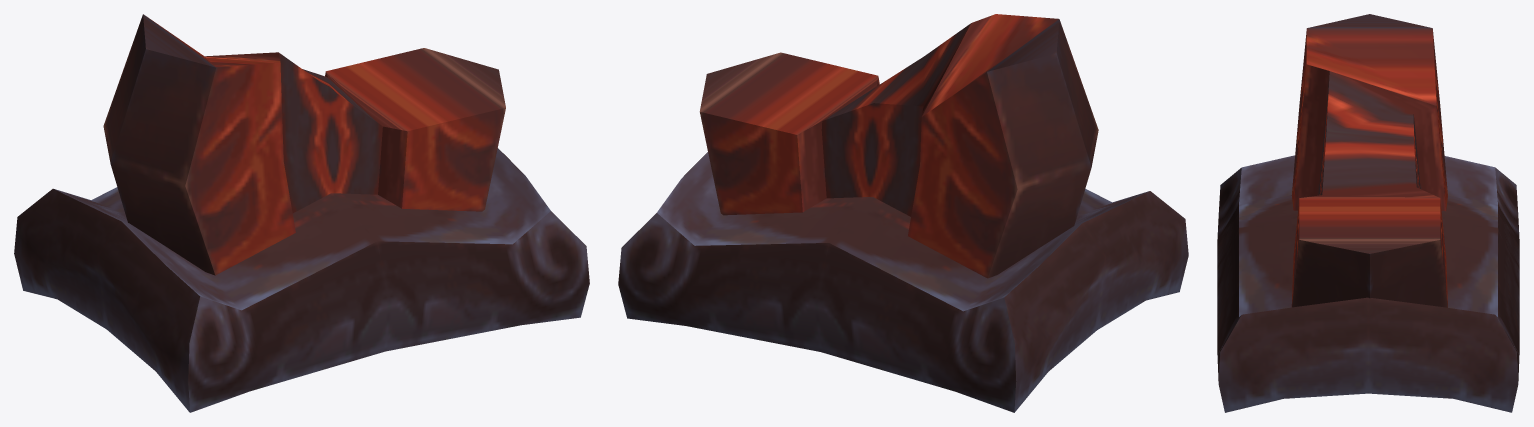
File: PigMonster05.FBX
The picture shows the model from 3 angles, left to right: view 1: azimuth 30°, elevation 25°; view 2: azimuth 150°, elevation 25°; view 3: azimuth 270°, elevation 25°; orthographic projection. The views are drawn at different scales.
Visible parts, largest first — view 1: PigMonster05; view 2: PigMonster05; view 3: PigMonster05.
Boxes of the visible parts, x1,y1,x2,y2 form: PigMonster05: (14,14,589,412); PigMonster05: (618,14,1188,412); PigMonster05: (1217,14,1519,412).
Bounding box in the file's own units: 111 × 83.1 × 76.41.
